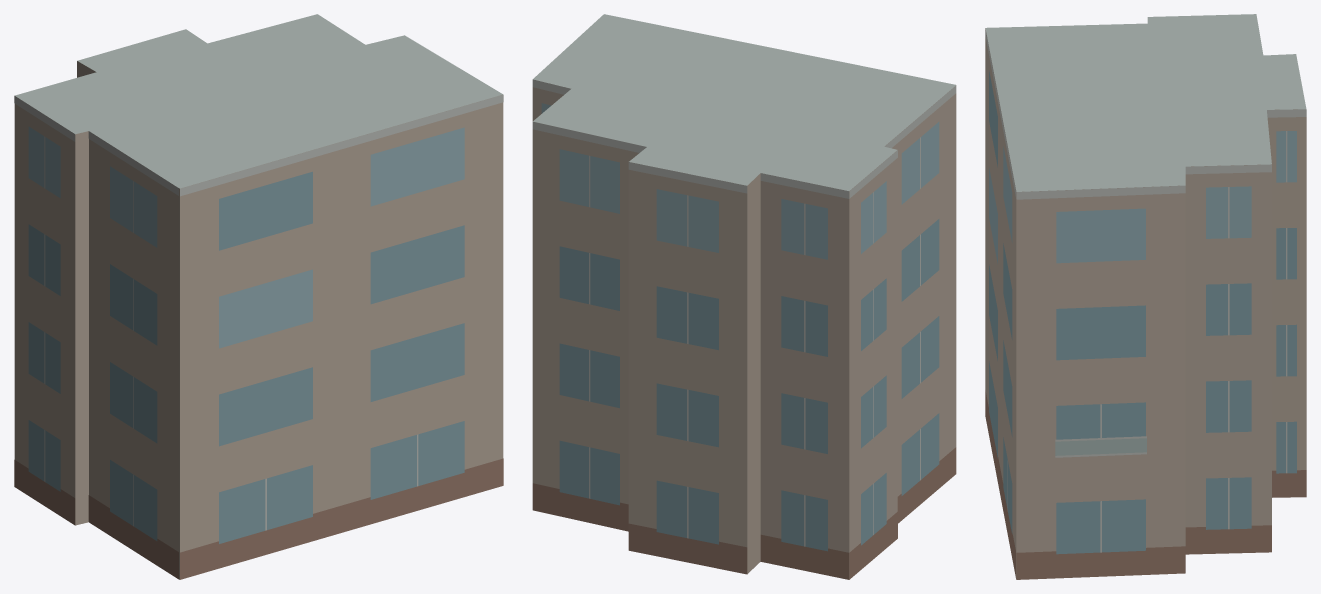
File: survey-upis-32459060.glb
3 views of the same model, side by side, from view 1: azimuth 30°, elevation 25°; view 2: azimuth 150°, elevation 25°; view 3: azimuth 270°, elevation 25° (orthographic).
Parts seen in each view (by area): view 1: survey-upis-32459060.tmp; view 2: survey-upis-32459060.tmp; view 3: survey-upis-32459060.tmp.
Part boxes in pixels (x1=…): survey-upis-32459060.tmp: x1=14, y1=14, x2=503, y2=579; survey-upis-32459060.tmp: x1=532, y1=14, x2=956, y2=579; survey-upis-32459060.tmp: x1=985, y1=14, x2=1306, y2=579.
Size of the model in its own units: 12.02 by 12.2 by 9.16.
